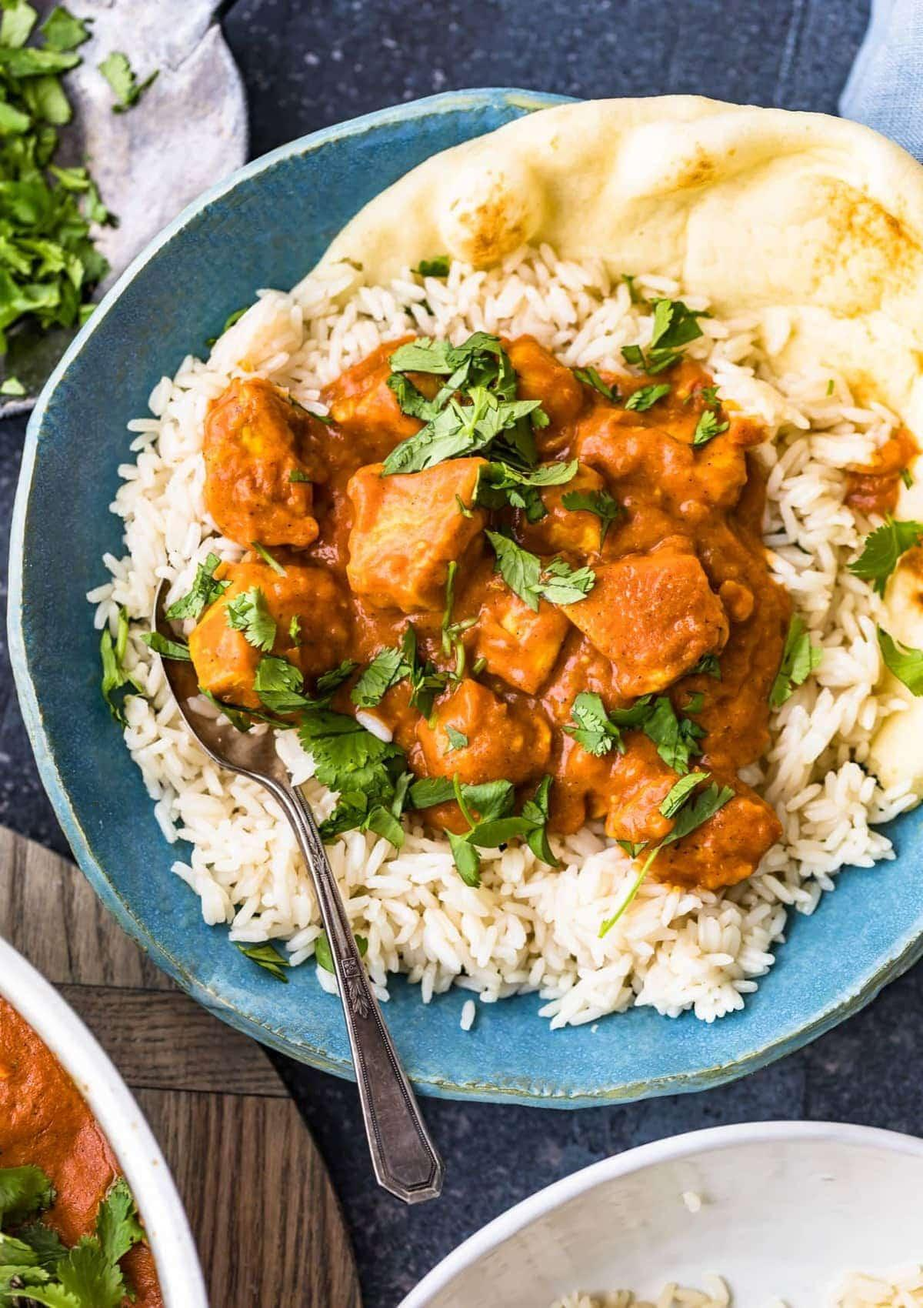chicken: (208, 344, 796, 873)
rice: (108, 390, 869, 1027)
roti: (362, 102, 923, 353)
